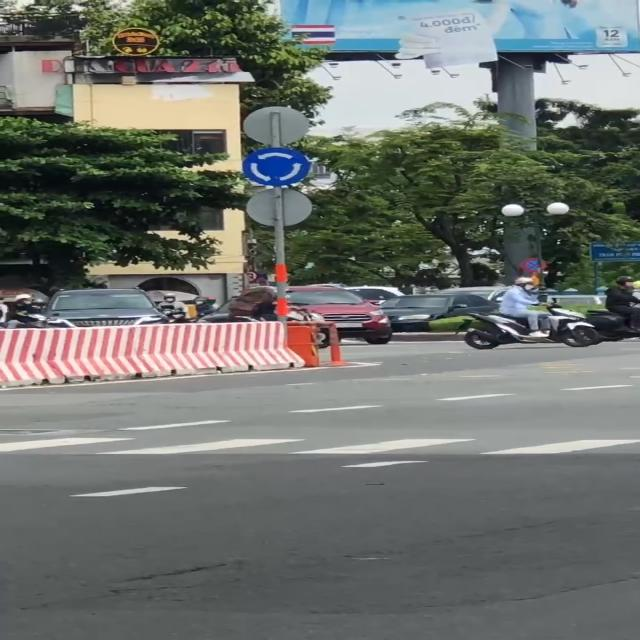Bien bao noi giao nhau chay theo vong xuyen: (239, 147, 314, 189)
